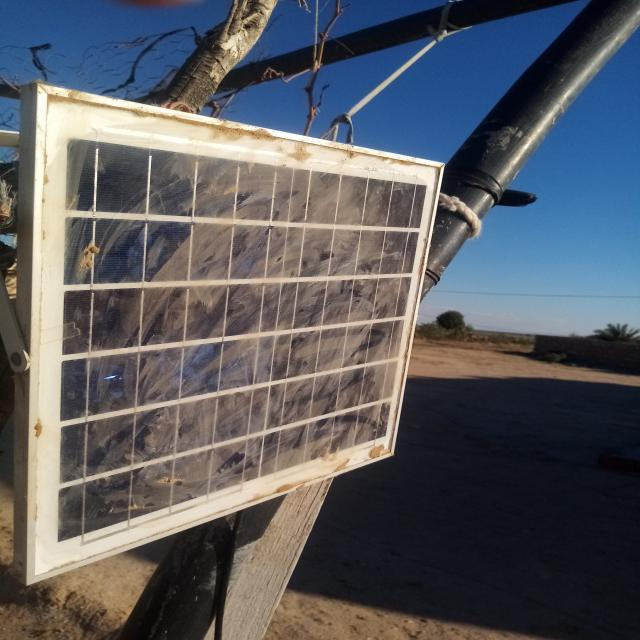faulty: (33, 88, 443, 580)
